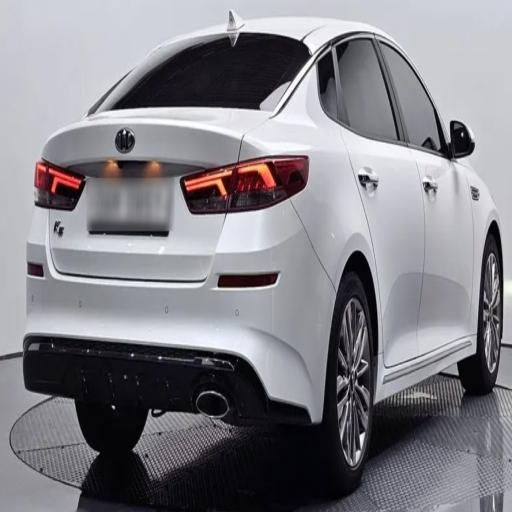normal: (22, 4, 507, 488)
